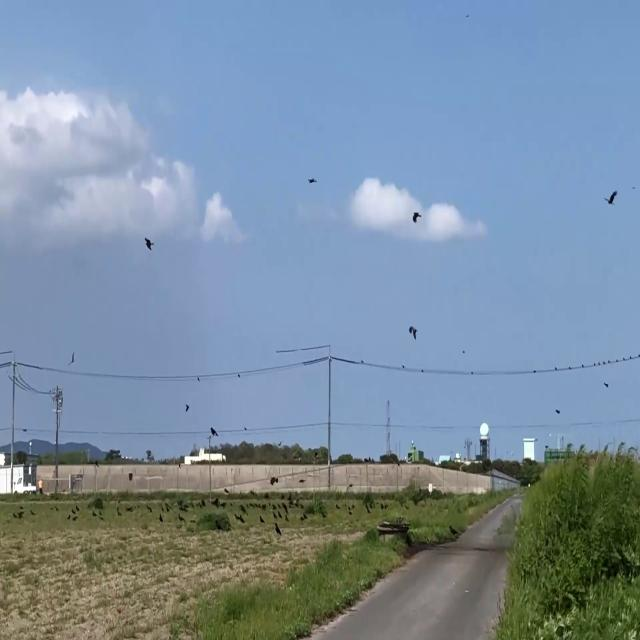bird: (605, 185, 618, 211), (145, 231, 153, 255), (412, 205, 420, 228), (70, 348, 74, 369), (276, 517, 280, 538), (285, 503, 288, 519)
